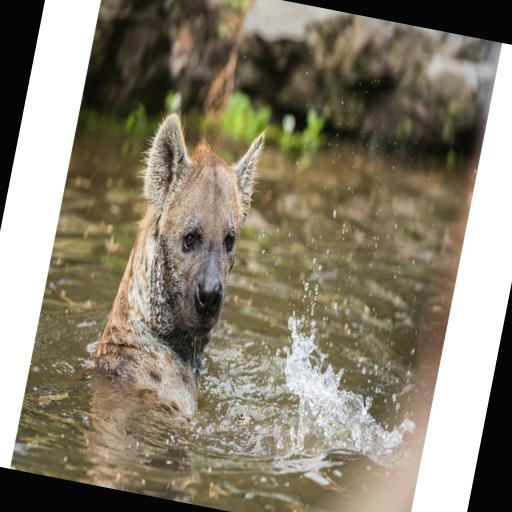hyenas: (49, 108, 269, 498)
